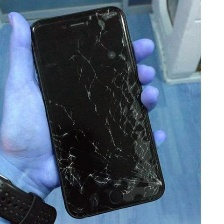phone: (26, 2, 168, 220)
